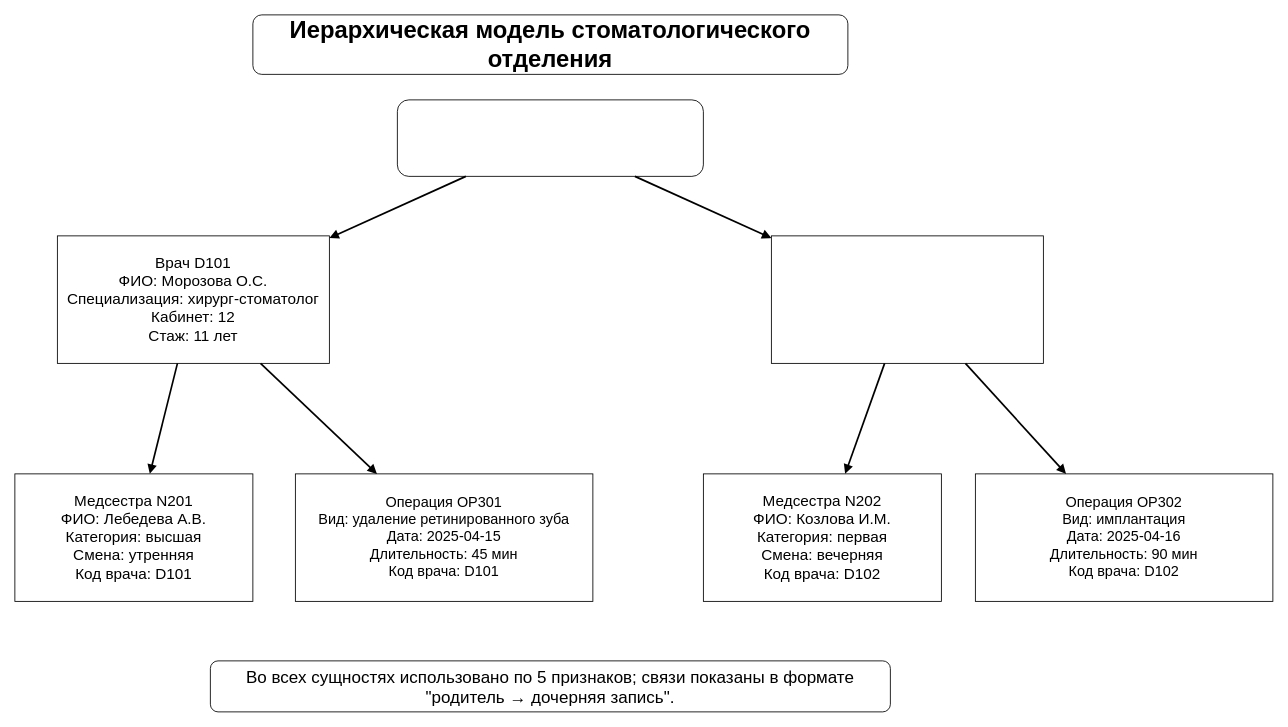
Some shapes in this 1288 by 727 pixel diagram are drawn without their labels. The box of each missing label's shape, as (x1, y1, x2, y2) in pixels:
Врач D102 ФИО: Орлов П.А. Специализация: ортодонт Кабинет: 7 Стаж: 8 лет: (771, 235, 1043, 363)
Стоматологическое отделение Код отдела: DEP-01: (397, 99, 703, 176)
